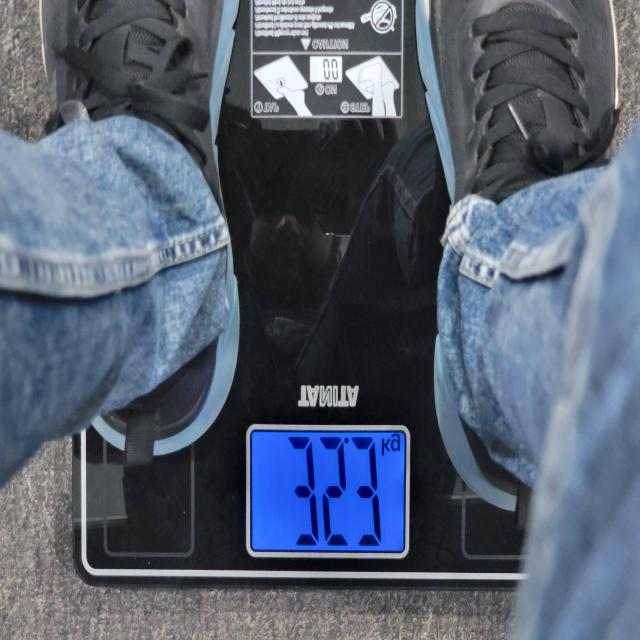ws: (244, 425, 412, 561)
